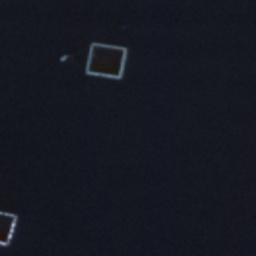square_solid: (81, 39, 130, 82), (1, 205, 21, 249)
